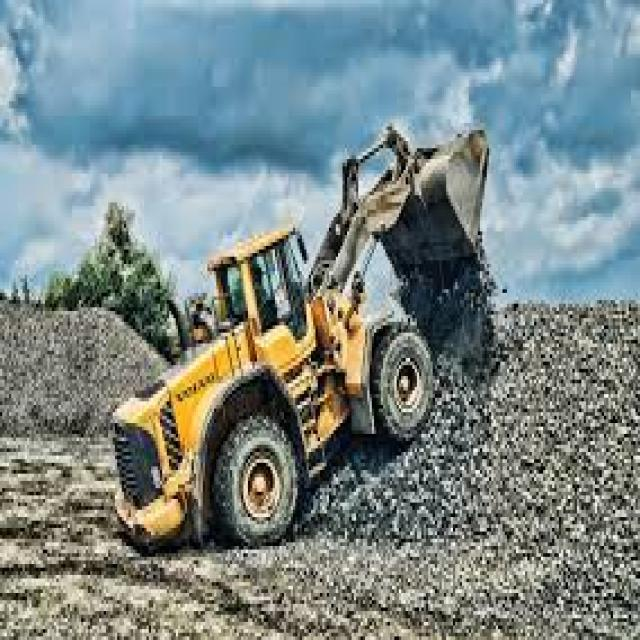buldozerpayloadergrader: (105, 212, 442, 552)
